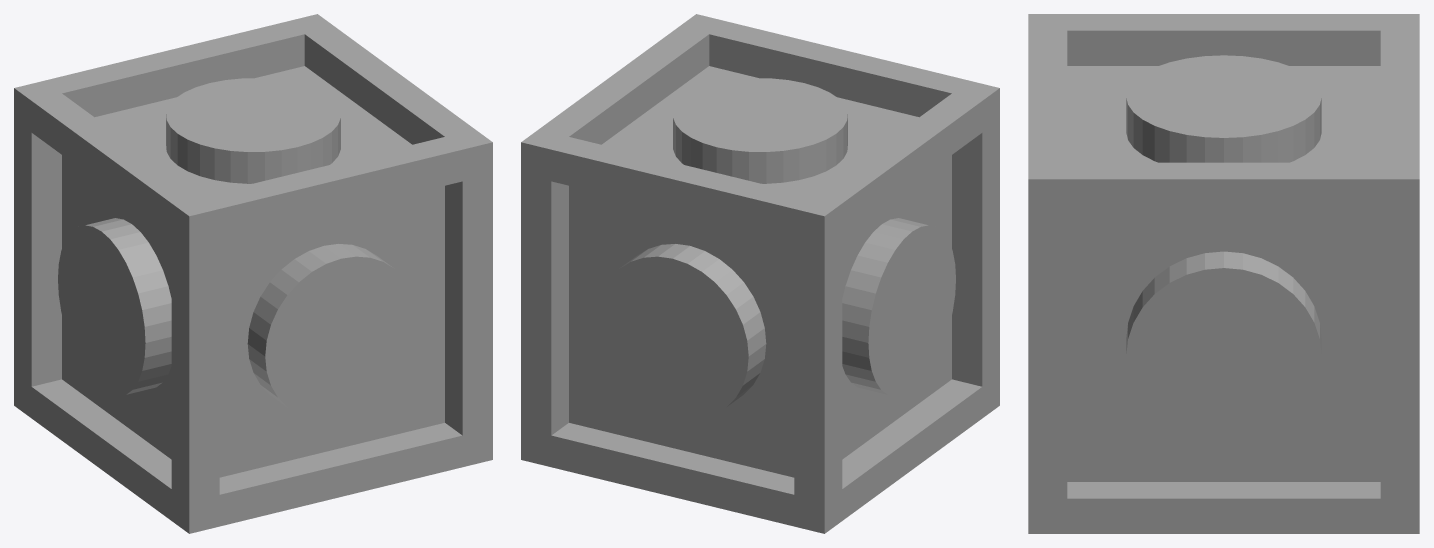
File: hull-01.glb
3 views of the same model, side by side, from view 1: azimuth 30°, elevation 25°; view 2: azimuth 150°, elevation 25°; view 3: azimuth 270°, elevation 25° (orthographic). The views are drawn at different scales.
Parts seen in each view (by area): view 1: Cube; view 2: Cube; view 3: Cube.
Part boxes in pixels (x1,y1,x2,y2): Cube: (14,14,492,533); Cube: (521,14,999,533); Cube: (1028,14,1419,533).
Bounding box in the file's own units: 1 × 1 × 1.
1 material, 1 textured.
